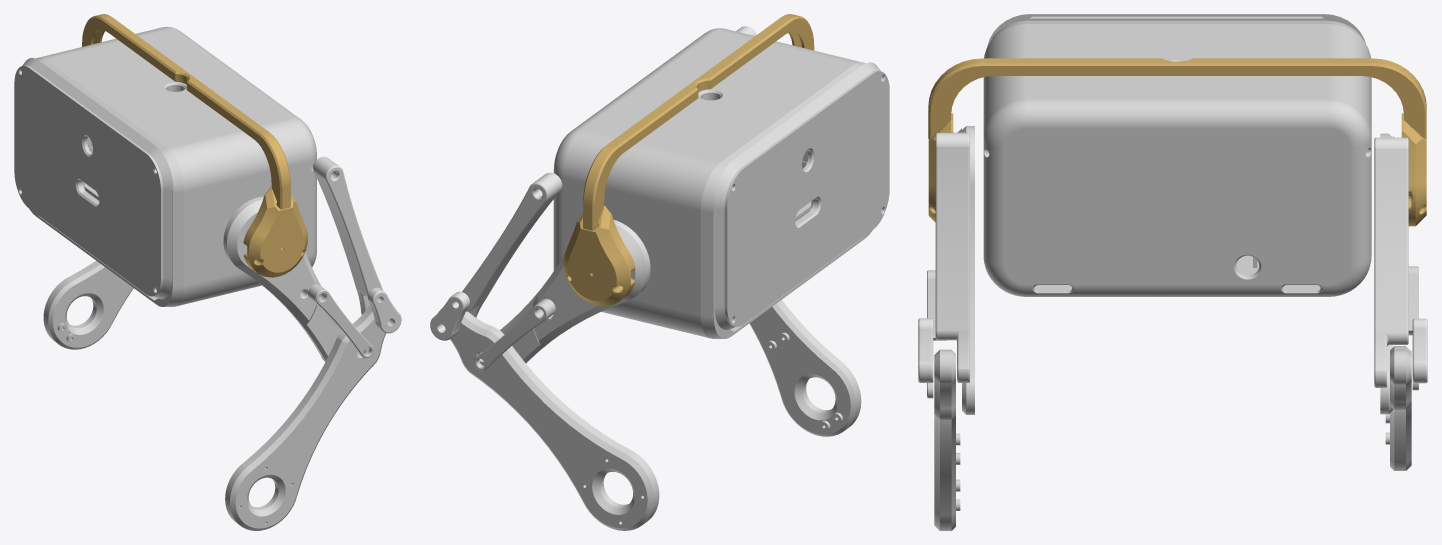
Rendered from talos-assembly.glb.
3 views of the same model, side by side, from view 1: azimuth 30°, elevation 25°; view 2: azimuth 150°, elevation 25°; view 3: azimuth 270°, elevation 25° (orthographic). The views are drawn at different scales.
Visible parts, largest first — view 1: Head-1, Face-1, Right Wheel Leg -2, left-encoder-cover-1, TALOS_Right_Leg_Link-1, Left Wheel Leg-1, Right Leg Support-1, Left Wheel Clip-2, support clips - Right-1; view 2: Head-1, Face-1, Left Wheel Leg-1, left-encoder-cover-1, Right Wheel Leg -2, TALOS_Left_Leg_Link-1, Left Leg Support-1, Right Wheel Clip -2, support clips - Left-1; view 3: Head-1, left-encoder-cover-1, Right Leg Support-1, Left Leg Support-1, Right Wheel Leg -2, Left Wheel Leg-1, Face-1, TALOS_Right_Leg_Link-1, support clips - Left-1, support clips - Right-1, Right Wheel Clip -2, Left Wheel Clip-2.
Boxes of the visible parts, x1=… form: Head-1: x1=29, y1=26, x2=316, y2=306; Face-1: x1=14, y1=57, x2=173, y2=299; Right Wheel Leg -2: x1=225, y1=305, x2=386, y2=530; left-encoder-cover-1: x1=82, y1=14, x2=307, y2=277; TALOS_Right_Leg_Link-1: x1=223, y1=196, x2=342, y2=361; Left Wheel Leg-1: x1=43, y1=260, x2=133, y2=349; Right Leg Support-1: x1=313, y1=156, x2=382, y2=314; Left Wheel Clip-2: x1=308, y1=284, x2=373, y2=358; support clips - Right-1: x1=367, y1=287, x2=401, y2=333; Head-1: x1=553, y1=28, x2=872, y2=338; Face-1: x1=713, y1=62, x2=889, y2=329; Left Wheel Leg-1: x1=439, y1=310, x2=659, y2=530; left-encoder-cover-1: x1=563, y1=14, x2=814, y2=306; Right Wheel Leg -2: x1=749, y1=300, x2=861, y2=436; TALOS_Left_Leg_Link-1: x1=500, y1=220, x2=650, y2=363; Left Leg Support-1: x1=462, y1=172, x2=562, y2=317; Right Wheel Clip -2: x1=474, y1=299, x2=555, y2=370; support clips - Left-1: x1=430, y1=291, x2=469, y2=340; Head-1: x1=983, y1=20, x2=1371, y2=296; left-encoder-cover-1: x1=928, y1=58, x2=1426, y2=226; Right Leg Support-1: x1=935, y1=132, x2=969, y2=382; Left Leg Support-1: x1=1374, y1=137, x2=1408, y2=387; Right Wheel Leg -2: x1=934, y1=349, x2=960, y2=530; Left Wheel Leg-1: x1=1385, y1=346, x2=1411, y2=470; Face-1: x1=987, y1=14, x2=1365, y2=46; TALOS_Right_Leg_Link-1: x1=958, y1=126, x2=974, y2=414; support clips - Left-1: x1=1412, y1=318, x2=1427, y2=383; support clips - Right-1: x1=918, y1=318, x2=933, y2=382; Right Wheel Clip -2: x1=1408, y1=266, x2=1418, y2=390; Left Wheel Clip-2: x1=927, y1=270, x2=946, y2=398.
Size of the model in its own units: 0.1626 by 0.2436 by 0.2363.
